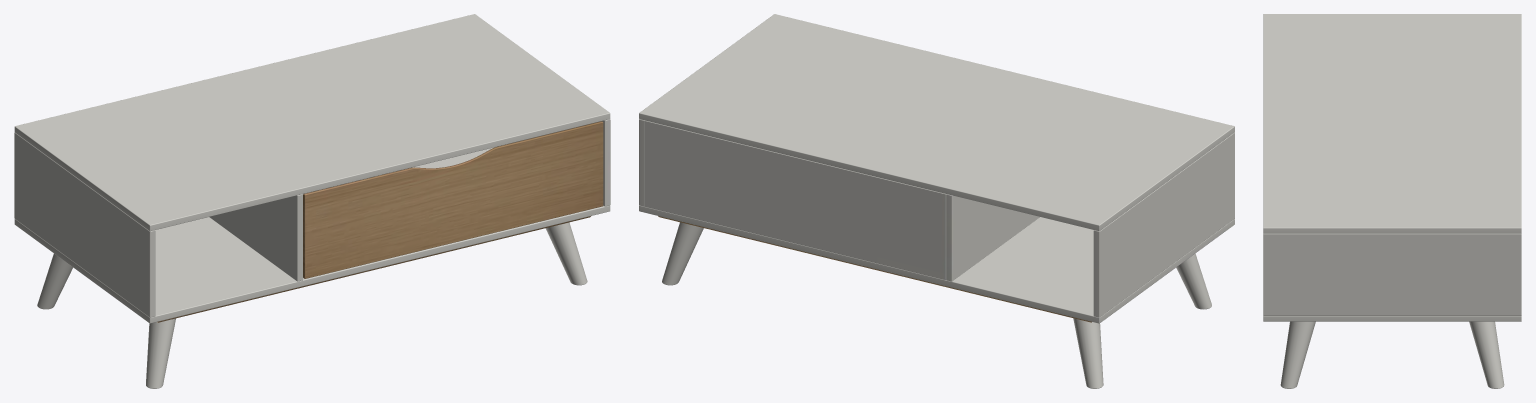
File: abo-B07QC861L7.glb
3 views of the same model, side by side, from view 1: azimuth 30°, elevation 25°; view 2: azimuth 150°, elevation 25°; view 3: azimuth 270°, elevation 25° (orthographic). The views are drawn at different scales.
Bounding box in the file's own units: 1.19 × 0.432 × 0.609.
Materials: 1 (1 with a texture image).
